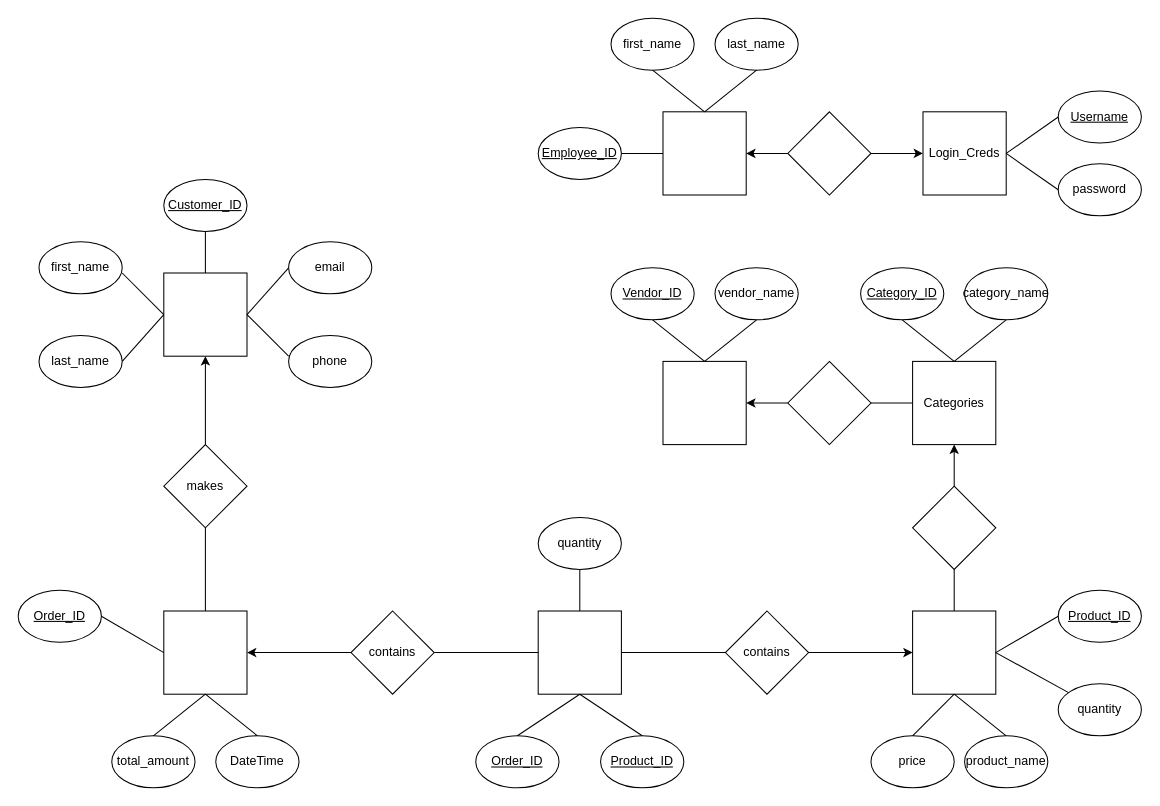
The diagram is 1160 pixels wide and 806 high, and some of its shapes have lost their labels. Here are the shapes that lost their labels. From the top down, the centre of each, then its label:
the point at 704,153: Employee
the point at 829,153: uses
the point at 205,314: Customers
the point at 704,402: Vendors
the point at 829,402: sold by
the point at 954,527: belong to
the point at 205,652: Orders
the point at 579,652: Order_Details
the point at 954,652: Products
